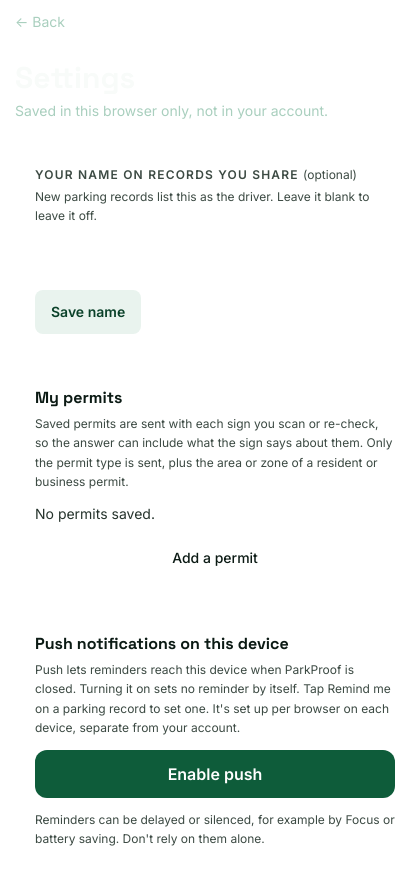
Test: My permits › asks no area for an accessible permit
Click the button "Add a permit".
click(215, 558)  # box [35,536,395,580]
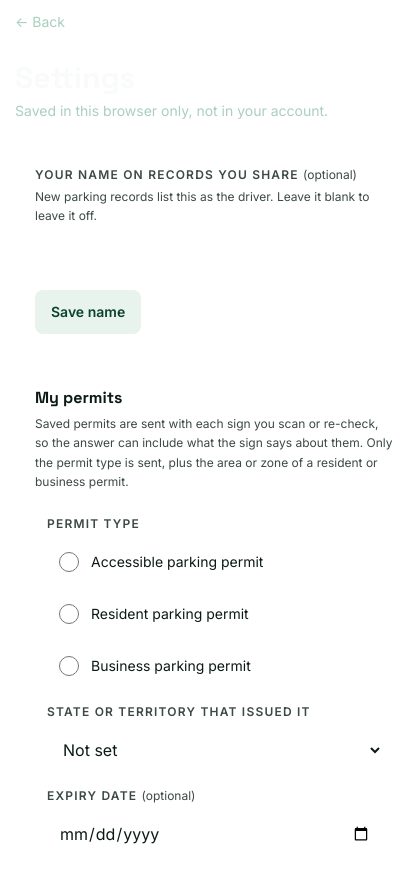
Click the radio button labelled "Business parking permit".
click(69, 666)  # box [59,656,79,676]
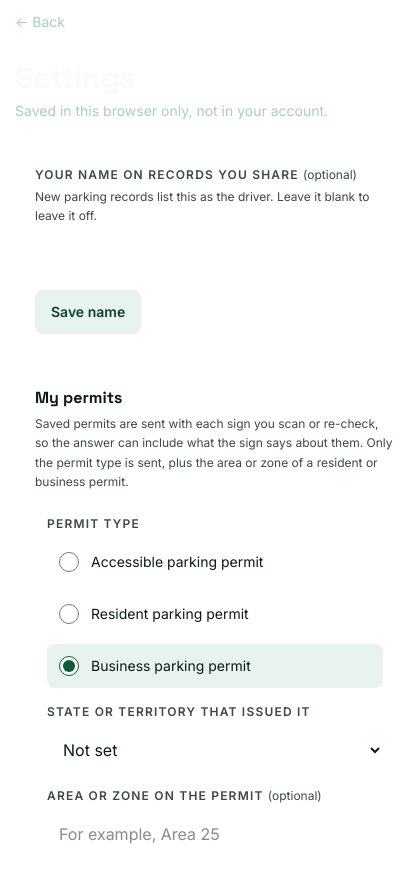
Now the field labelled "Area or zone on the permit (optional)" is shown, box [47,812,383,856]
Click the radio button labelled "Accessible parking permit".
click(69, 562)  # box [59,552,79,572]
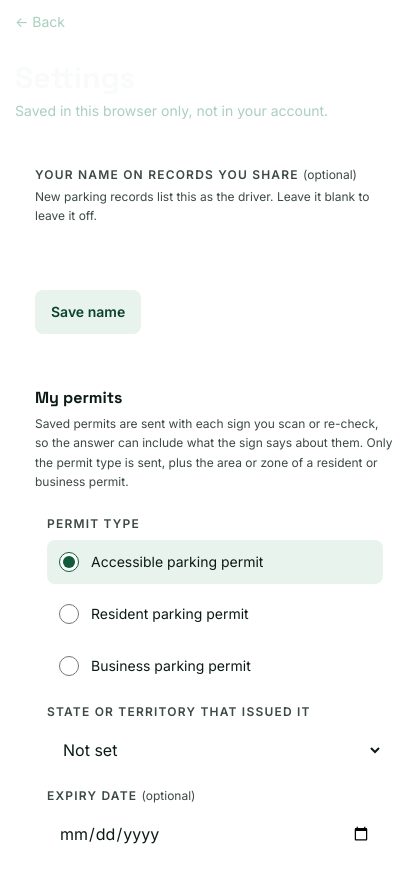
Now the label labelled "Area or zone on the permit" is gone
